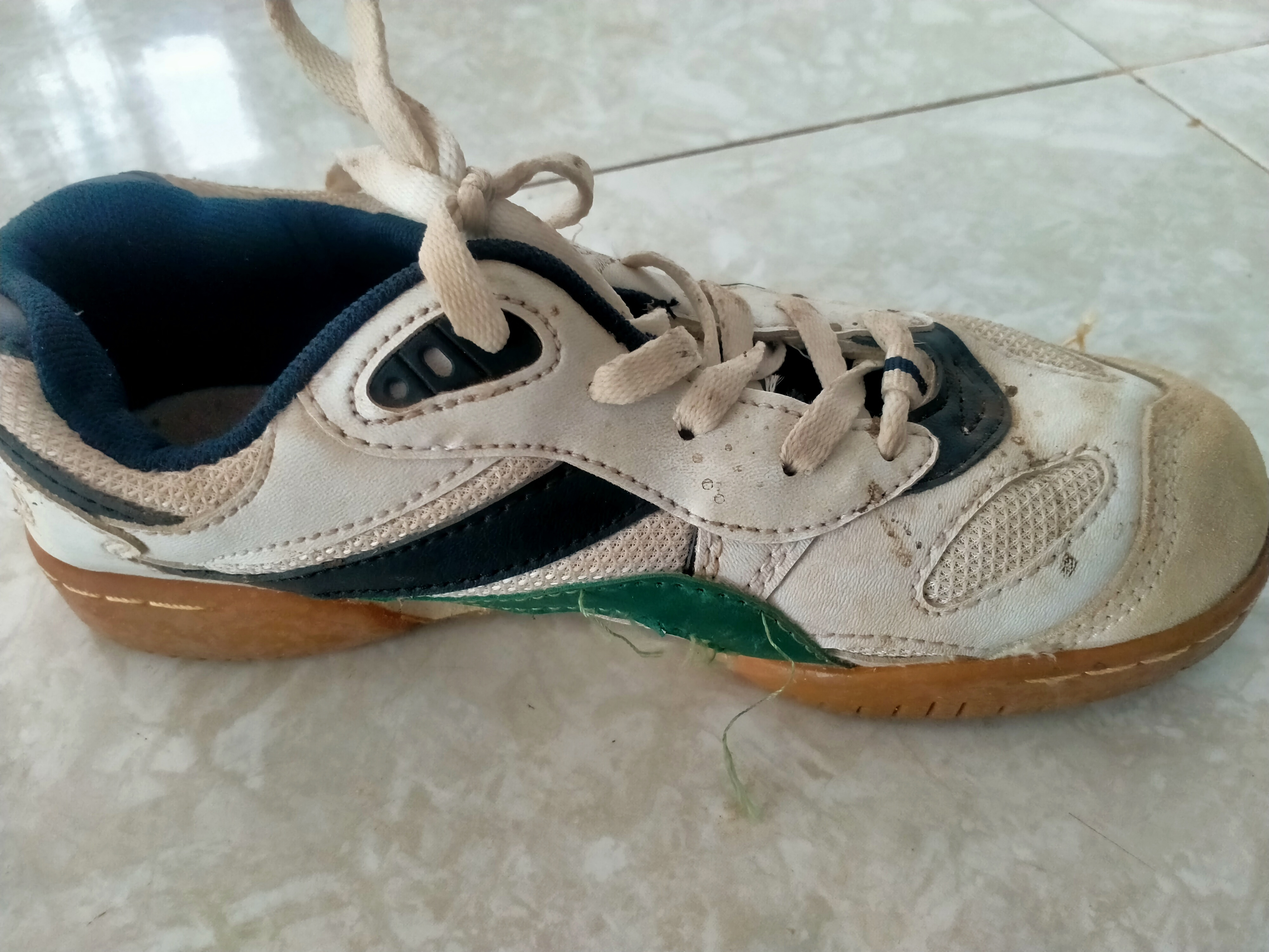broken: (579, 580, 781, 623), (592, 608, 742, 657)
